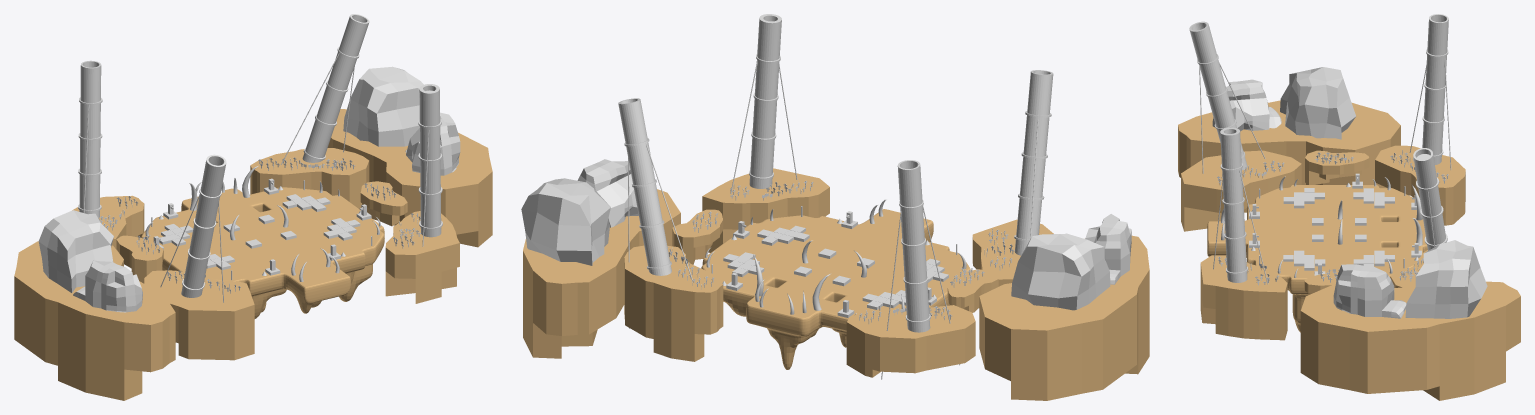
File: Sala2_Jefe.fbx
3 views of the same model, side by side, from view 1: azimuth 30°, elevation 25°; view 2: azimuth 150°, elevation 25°; view 3: azimuth 270°, elevation 25° (orthographic). The views are drawn at different scales.
Parts seen in each view (by area): view 1: Base 4-2, Cube.442, Cube.441, Cube.248, Cube.247, Roca 2.003, Cube.245, Roca 2.002, Tuberia.010, Tuberia.011, Tuberia.009, Tuberia.008 (+5 smaller); view 2: Base 4-2, Cube.442, Cube.441, Cube.245, Cube.246, Roca 2.003, Roca 2.002, Cube.247, Tuberia.010, Tuberia.008, Tuberia.009, Tuberia.011 (+5 smaller); view 3: Cube.441, Base 4-2, Cube.442, Cube.247, Cube.248, Roca 2.003, Roca 2.002, Tuberia.008, Cube.246, Tuberia.009, Roca.061, Tuberia.011 (+5 smaller).
Boxes of the visible parts, bbox=[...] form: Base 4-2: bbox=[141, 187, 384, 318]; Cube.442: bbox=[14, 241, 175, 400]; Cube.441: bbox=[327, 109, 492, 247]; Cube.248: bbox=[144, 270, 254, 360]; Cube.247: bbox=[385, 211, 459, 303]; Roca 2.003: bbox=[343, 66, 423, 146]; Cube.245: bbox=[250, 148, 369, 208]; Roca 2.002: bbox=[38, 210, 113, 292]; Tuberia.010: bbox=[281, 14, 369, 164]; Tuberia.011: bbox=[160, 154, 226, 302]; Tuberia.009: bbox=[78, 60, 102, 218]; Tuberia.008: bbox=[418, 84, 442, 246]; Base 4-2: bbox=[701, 209, 970, 369]; Cube.442: bbox=[979, 235, 1149, 400]; Cube.441: bbox=[523, 189, 680, 358]; Cube.245: bbox=[624, 245, 723, 361]; Cube.246: bbox=[846, 305, 975, 377]; Roca 2.003: bbox=[521, 178, 610, 265]; Roca 2.002: bbox=[1011, 233, 1110, 310]; Cube.247: bbox=[702, 168, 829, 252]; Tuberia.010: bbox=[618, 98, 692, 328]; Tuberia.008: bbox=[730, 14, 797, 193]; Tuberia.009: bbox=[881, 160, 960, 379]; Tuberia.011: bbox=[1014, 70, 1053, 255]; Cube.441: bbox=[1300, 281, 1520, 400]; Base 4-2: bbox=[1207, 185, 1427, 332]; Cube.442: bbox=[1178, 100, 1400, 184]; Cube.247: bbox=[1200, 255, 1287, 340]; Cube.248: bbox=[1181, 150, 1301, 231]; Roca 2.003: bbox=[1405, 240, 1487, 318]; Roca 2.002: bbox=[1280, 67, 1356, 139]; Tuberia.008: bbox=[1213, 127, 1268, 284]; Cube.246: bbox=[1375, 145, 1465, 225]; Tuberia.009: bbox=[1409, 14, 1451, 169]; Roca.061: bbox=[1333, 264, 1406, 318]; Tuberia.011: bbox=[1189, 21, 1265, 173].
Bounding box in the file's own units: 28398 × 45460 × 20927.
